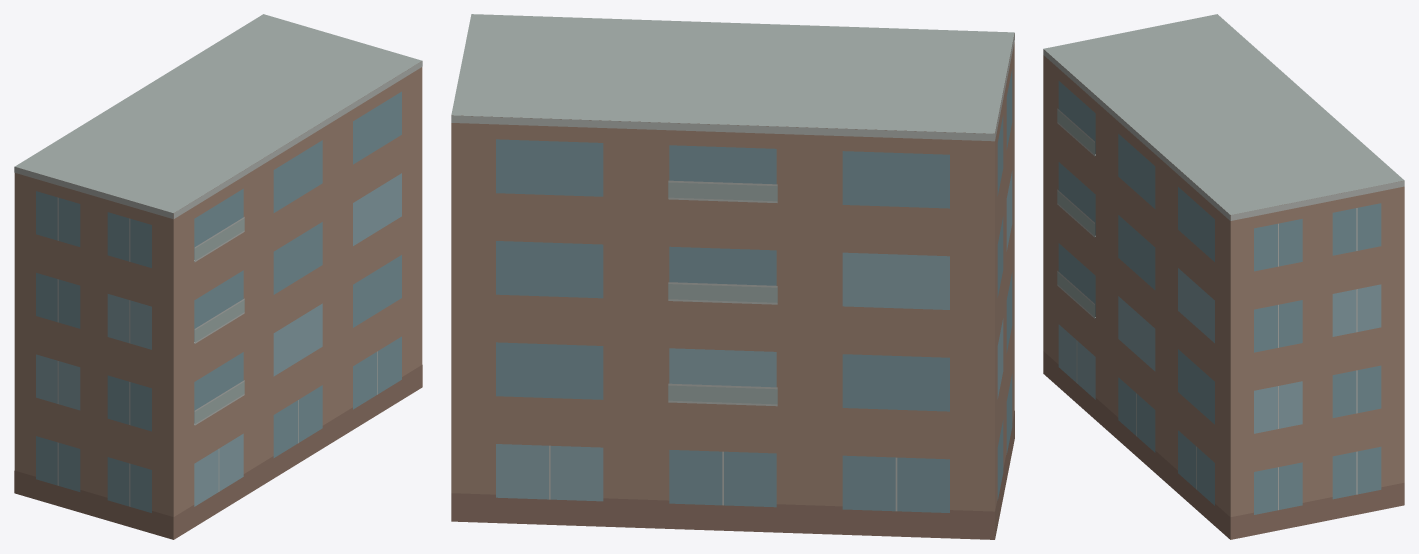
File: survey-upis-32704767.glb
3 renders of one model, left to right at view 1: azimuth 30°, elevation 25°; view 2: azimuth 150°, elevation 25°; view 3: azimuth 270°, elevation 25°, orthographic. The views are drawn at different scales.
Parts seen in each view (by area): view 1: survey-upis-32704767.tmp; view 2: survey-upis-32704767.tmp; view 3: survey-upis-32704767.tmp.
Part boxes in pixels (<box>): survey-upis-32704767.tmp: <box>14,14,422,539</box>; survey-upis-32704767.tmp: <box>451,14,1014,539</box>; survey-upis-32704767.tmp: <box>1043,14,1404,539</box>.
Bounding box in the file's own units: 17.54 × 13.2 × 13.32.
